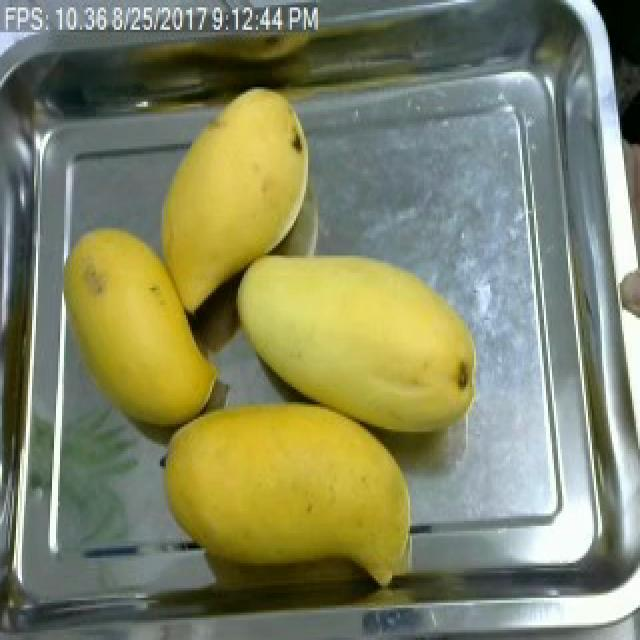fruit: (224, 236, 488, 454), (152, 387, 426, 588), (144, 82, 322, 320), (54, 218, 222, 439)
